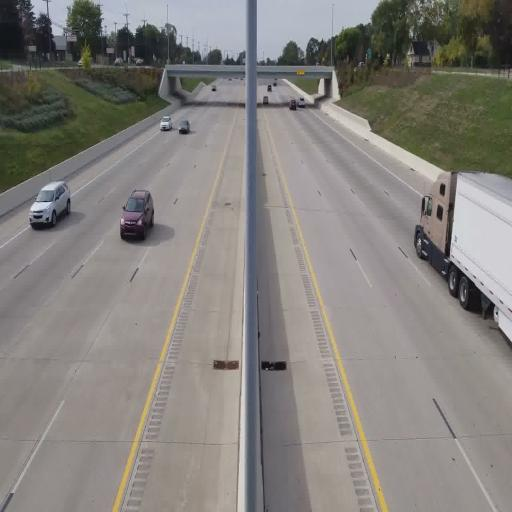Car: (30, 180, 72, 228), (119, 188, 155, 240), (160, 114, 172, 130), (178, 120, 190, 134)
Truck: (413, 170, 512, 346)
